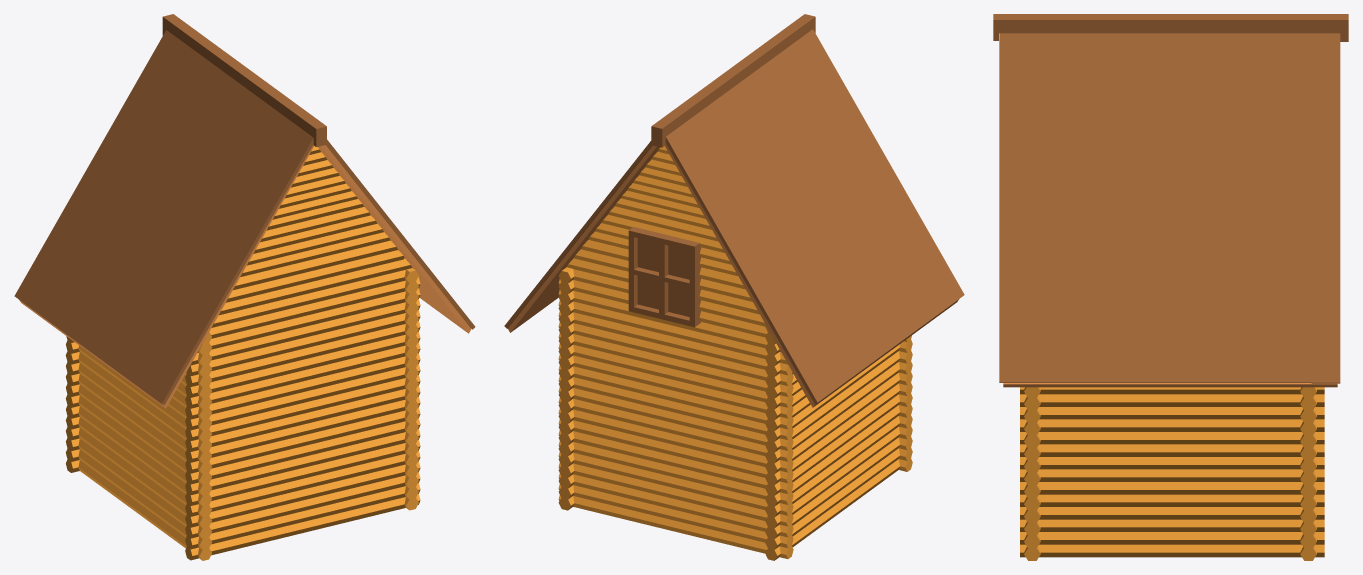
The model's file is Environment_Cabin_Wood.fbx.
3 views of the same model, side by side, from view 1: azimuth 30°, elevation 25°; view 2: azimuth 150°, elevation 25°; view 3: azimuth 270°, elevation 25° (orthographic). The views are drawn at different scales.
Visible parts, largest first — view 1: Plane.001; view 2: Plane.001; view 3: Plane.001.
Part boxes in pixels (x1,y1,x2,y2): Plane.001: (14, 14, 475, 560); Plane.001: (504, 14, 964, 560); Plane.001: (993, 14, 1348, 560).
Size of the model in its own units: 1969 by 2490 by 1669.
